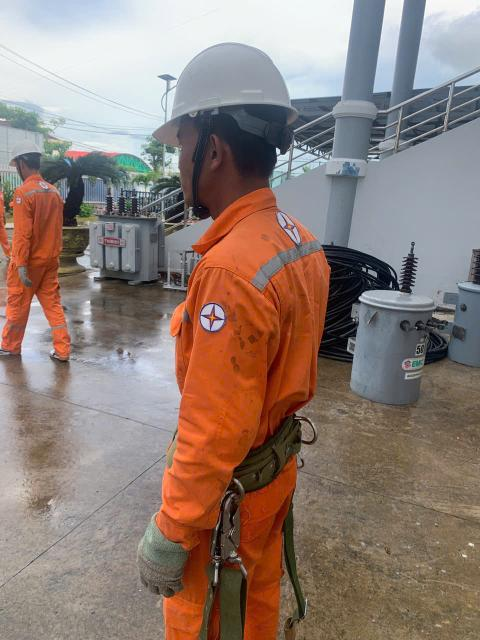gloves: (117, 511, 189, 599)
harness: (204, 399, 311, 519)
helmet: (150, 41, 304, 131)
